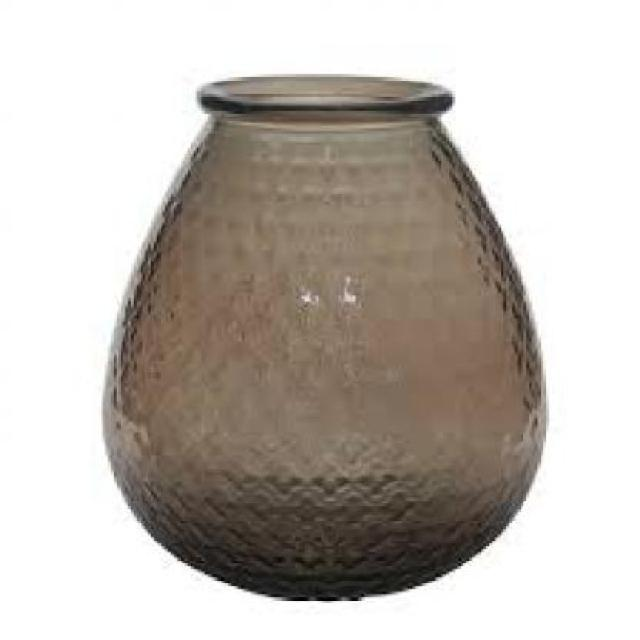kaca: (100, 71, 546, 600)
